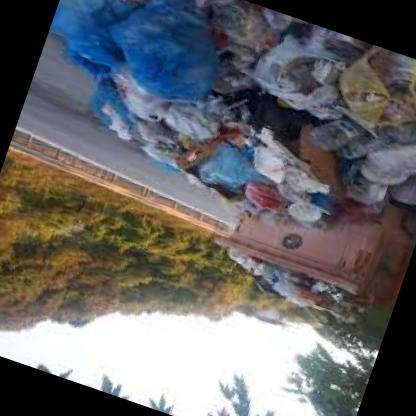Garbage: (91, 0, 415, 227), (281, 30, 415, 208), (230, 254, 368, 320), (55, 0, 169, 74)
